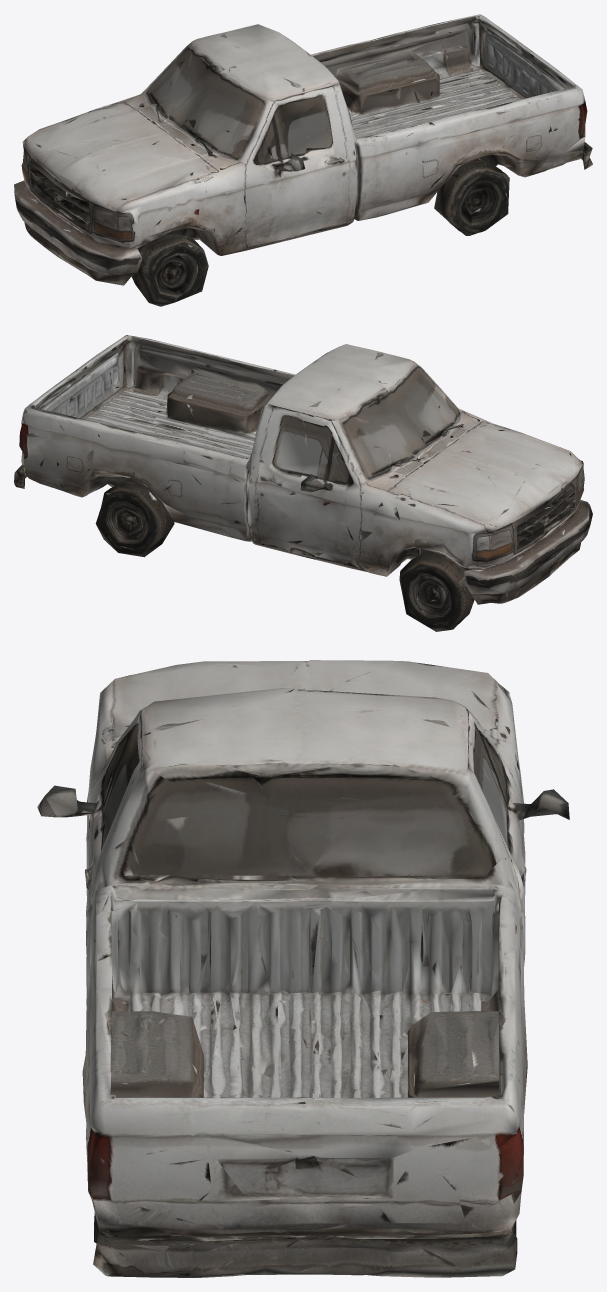
File: pickup.glb
3 renders of one model, top to bottom at view 1: azimuth 30°, elevation 25°; view 2: azimuth 150°, elevation 25°; view 3: azimuth 270°, elevation 25°, orthographic. The views are drawn at different scales.
Size of the model in its own units: 1.9 by 0.6818 by 0.8864.
1 material, 1 textured.
